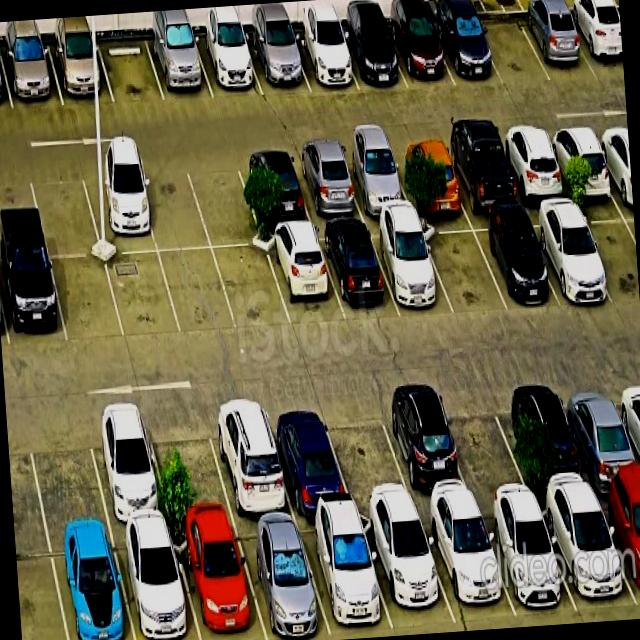car: (537, 492, 640, 618), (296, 513, 394, 640), (376, 387, 476, 508), (233, 520, 331, 640), (478, 500, 577, 617), (418, 504, 516, 622), (359, 511, 456, 628), (171, 523, 266, 640), (204, 397, 294, 520), (263, 398, 353, 515), (507, 378, 595, 497), (84, 407, 170, 527), (112, 526, 200, 640), (557, 376, 640, 492), (48, 530, 134, 640), (524, 204, 614, 302), (469, 214, 558, 309), (263, 227, 345, 327), (316, 223, 399, 320), (367, 221, 453, 313), (79, 162, 157, 254), (0, 254, 67, 348), (441, 134, 521, 211), (236, 150, 312, 228), (289, 147, 364, 222), (337, 144, 413, 216), (390, 139, 467, 210), (595, 487, 640, 608), (497, 128, 570, 202), (517, 12, 596, 80), (545, 125, 617, 196), (385, 17, 455, 89), (431, 16, 503, 86), (336, 23, 407, 89), (193, 35, 263, 98), (146, 35, 213, 100), (289, 29, 358, 91), (48, 40, 113, 105), (0, 43, 63, 109), (245, 32, 310, 94), (565, 8, 624, 76)
free: (439, 382, 532, 503), (320, 394, 415, 508), (144, 407, 234, 525), (24, 410, 109, 533), (419, 218, 506, 314), (184, 154, 262, 248), (135, 160, 210, 251), (27, 165, 101, 256), (159, 249, 237, 335), (105, 252, 181, 339), (576, 202, 640, 304), (213, 246, 290, 330), (50, 256, 124, 343), (474, 14, 550, 86), (97, 37, 164, 102)
